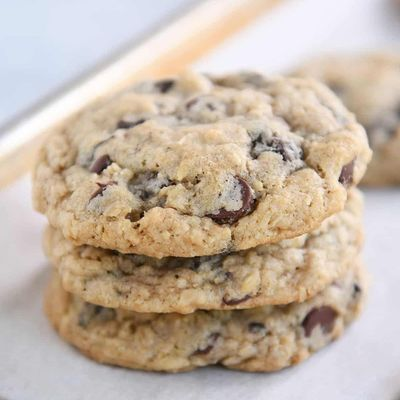soup: (37, 66, 369, 374)
